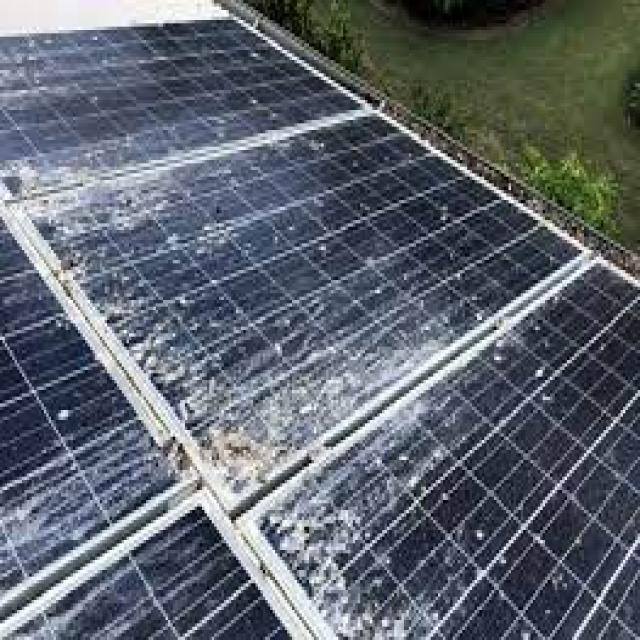faulty: (22, 113, 579, 500), (246, 254, 640, 640), (0, 219, 196, 592), (0, 21, 357, 195), (5, 514, 295, 640)
